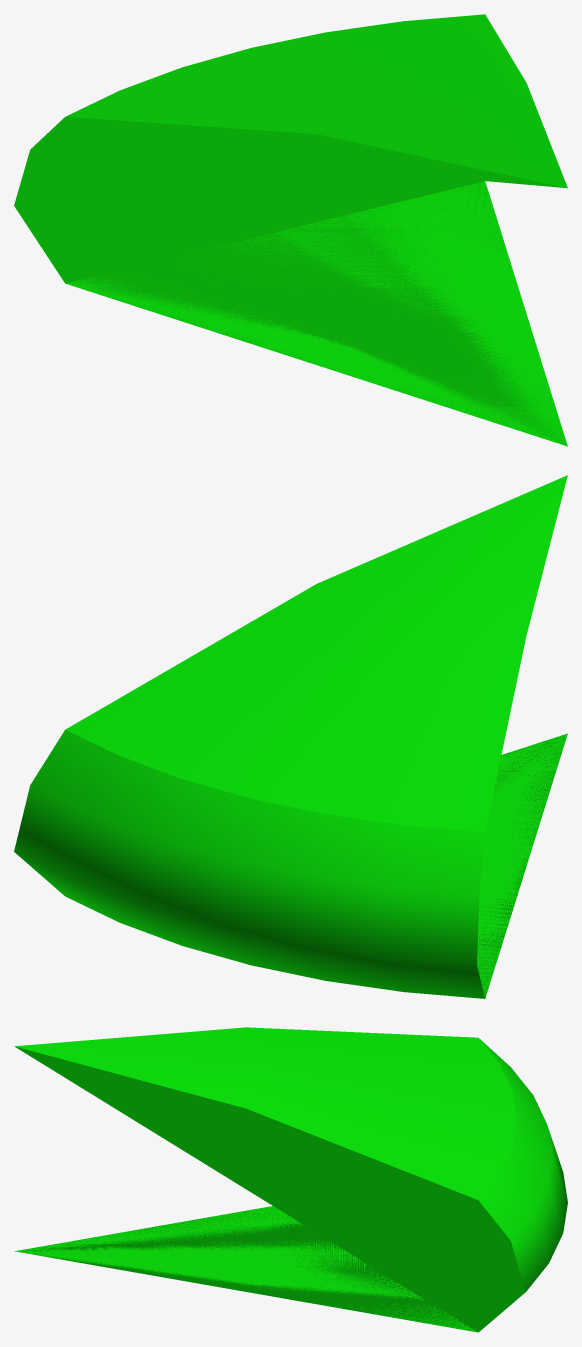
File: body8_4.fbx
3 renders of one model, top to bottom at view 1: azimuth 30°, elevation 25°; view 2: azimuth 150°, elevation 25°; view 3: azimuth 270°, elevation 25°, orthographic. The views are drawn at different scales.
Parts seen in each view (by area): view 1: pCylinder243; view 2: pCylinder243; view 3: pCylinder243.
Part boxes in pixels (box(x1,y1,x2,y2)): pCylinder243: box(14, 14, 567, 446); pCylinder243: box(14, 475, 567, 998); pCylinder243: box(14, 1027, 567, 1332).
Bounding box in the file's own units: 3.42 × 1.82 × 4.47.
